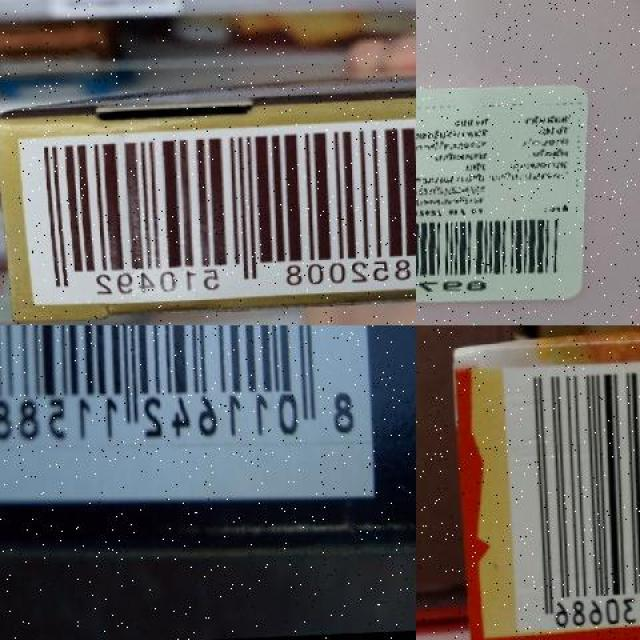Barcode: (24, 121, 416, 304), (0, 325, 371, 503), (498, 353, 640, 634), (416, 205, 567, 304)
